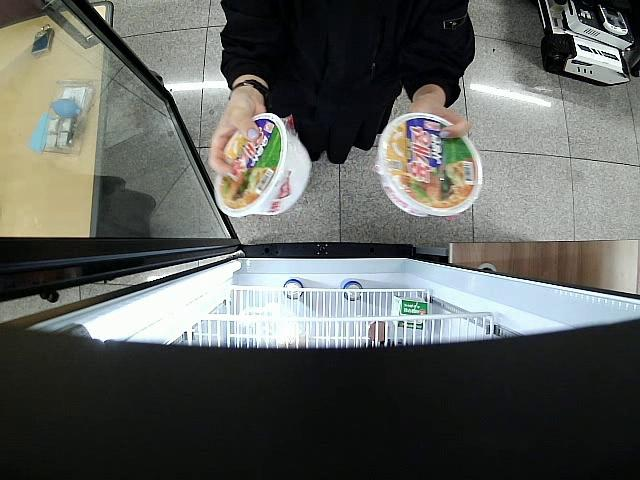00_hand: (207, 106, 261, 179), (404, 100, 473, 141)
09_yukGaeJang: (375, 113, 483, 221), (213, 112, 313, 217)
